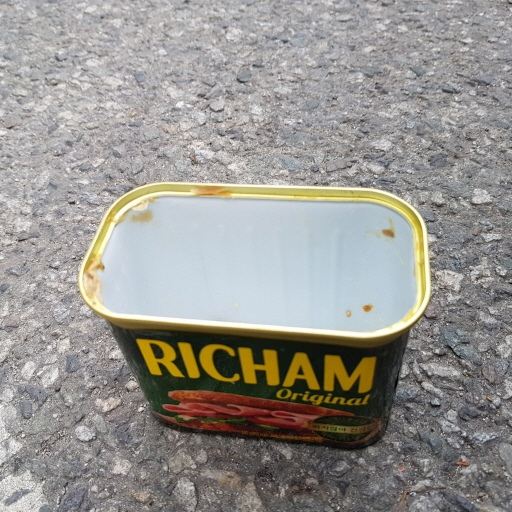Metal_2: (77, 181, 435, 449)
